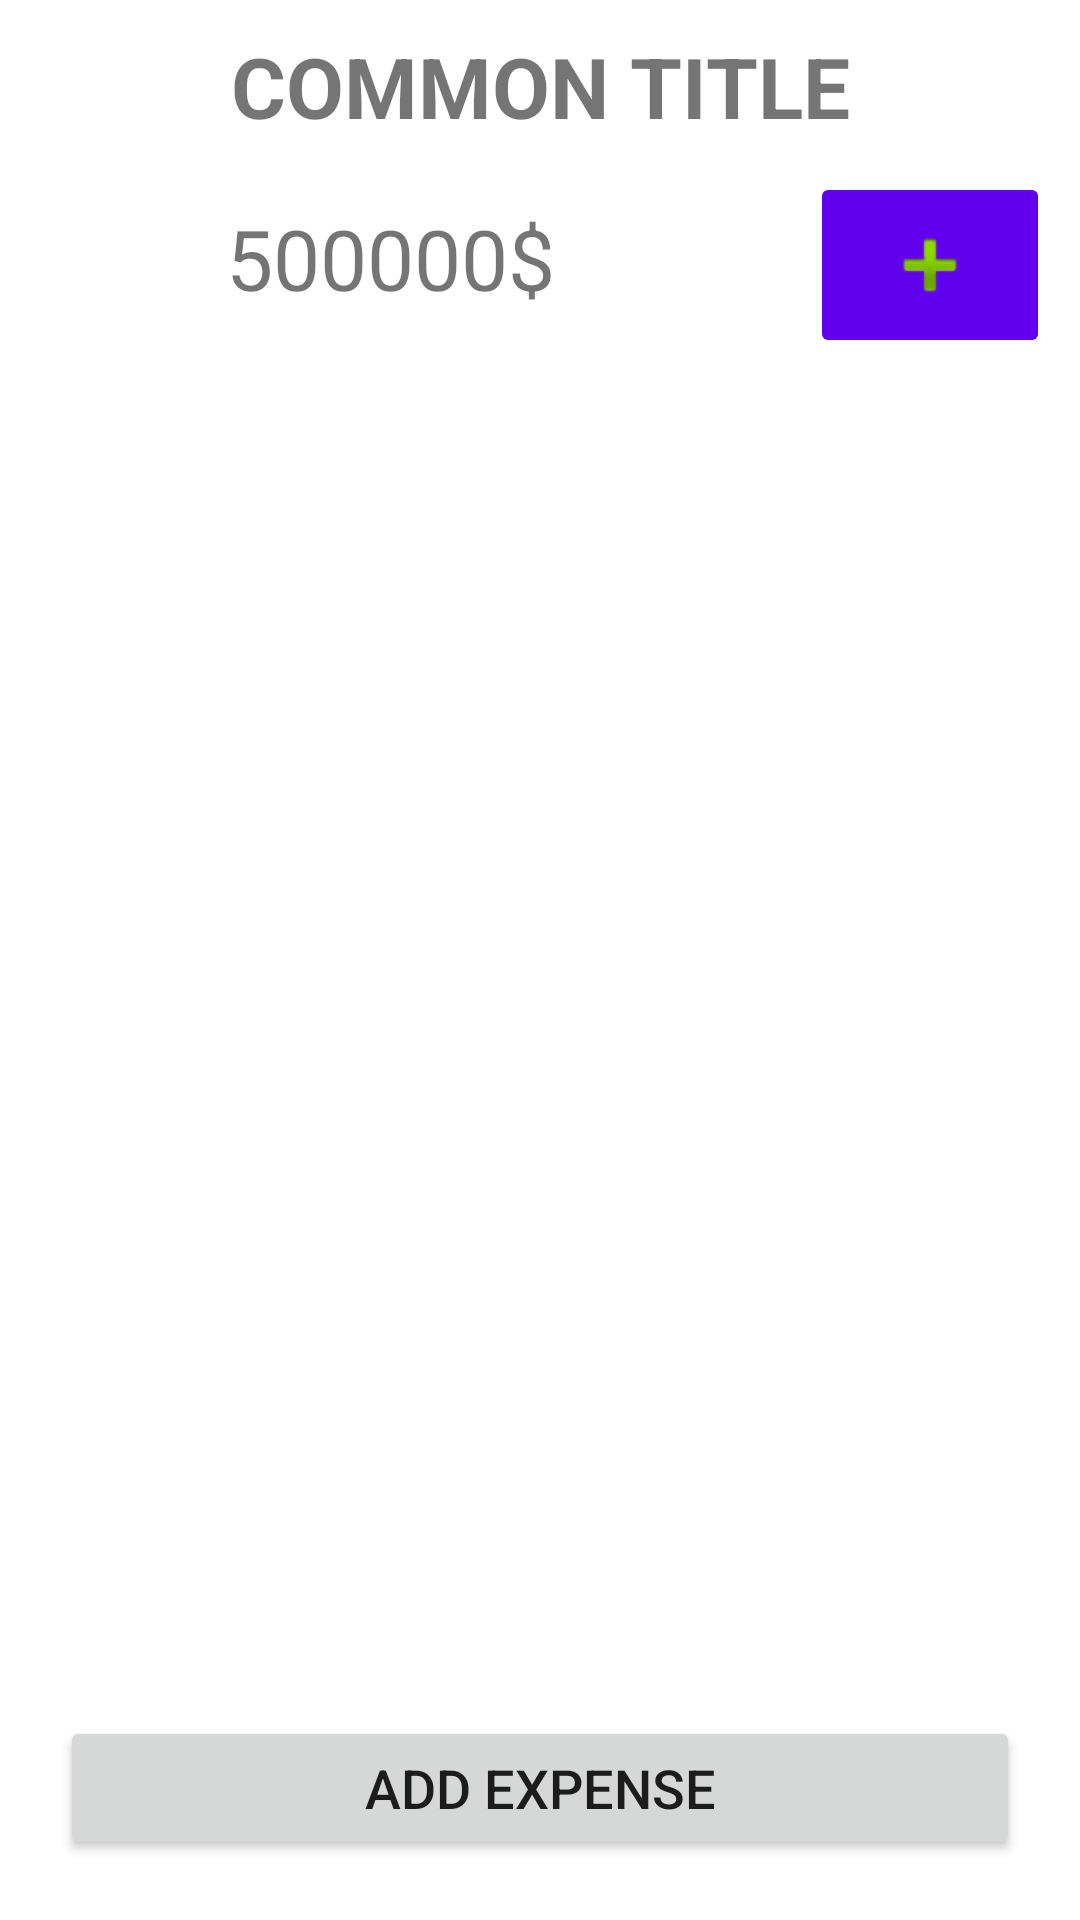

Icon click points for this 1080×1920 phone screenshot, format (x,y):
add: (930,265)
